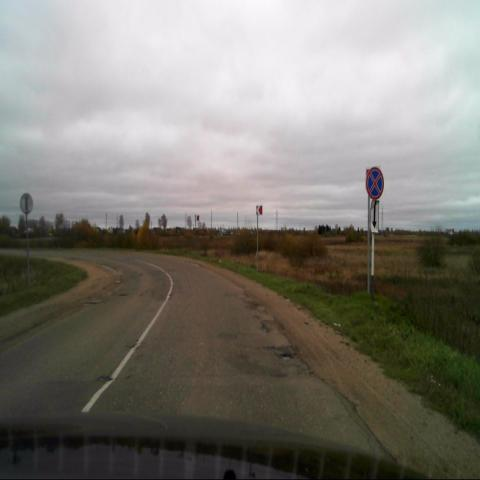3_27: (366, 168, 384, 199)
